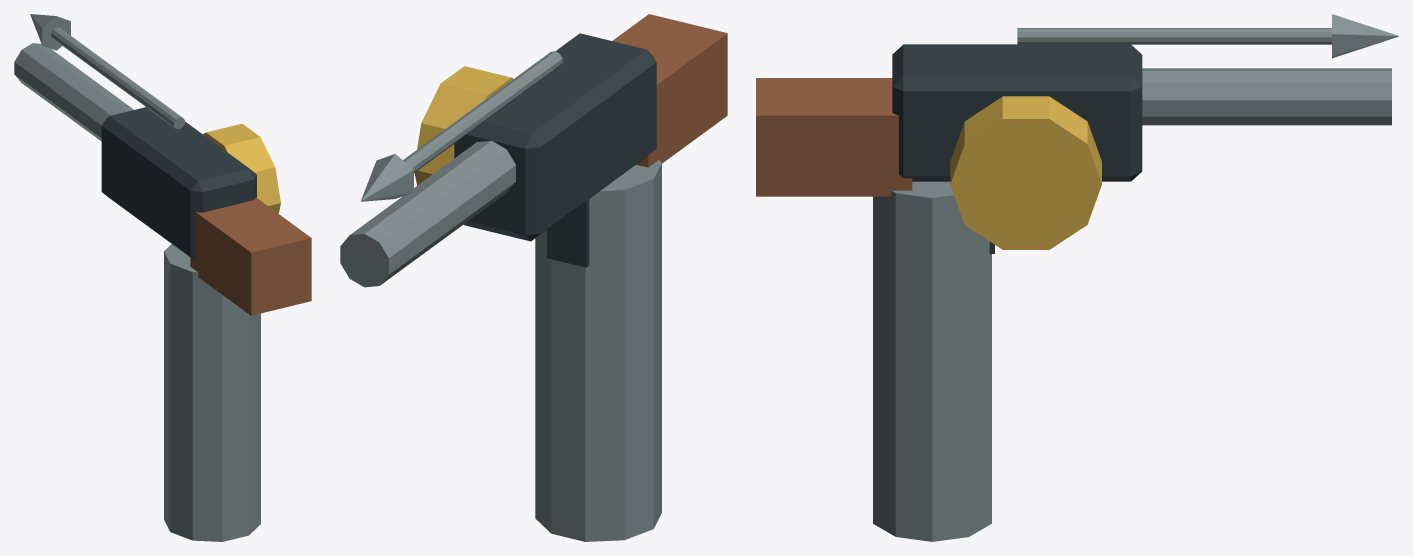
The model's file is DeadRail_Weapon_Mount.fbx.
The picture shows the model from 3 angles, left to right: view 1: azimuth 30°, elevation 25°; view 2: azimuth 150°, elevation 25°; view 3: azimuth 270°, elevation 25°; orthographic projection. The views are drawn at different scales.
Visible parts, largest first — view 1: Weapon_Pedestal, Weapon_Receiver, Weapon_Stock, Weapon_Barrel, Harpoon_Spool, Harpoon_Bolt, Harpoon_Tip; view 2: Weapon_Pedestal, Weapon_Receiver, Weapon_Barrel, Weapon_Stock, Harpoon_Spool, Harpoon_Bolt, Weapon_Grip, Harpoon_Tip; view 3: Weapon_Pedestal, Weapon_Receiver, Harpoon_Spool, Weapon_Stock, Weapon_Barrel, Harpoon_Bolt, Harpoon_Tip.
Part boxes in pixels (x1,y1,x2,y2): Weapon_Pedestal: (164,244,260,541); Weapon_Receiver: (101,107,256,259); Weapon_Stock: (190,197,311,315); Weapon_Barrel: (14,43,133,141); Harpoon_Spool: (203,123,280,213); Harpoon_Bolt: (51,27,184,129); Harpoon_Tip: (30,14,70,50); Weapon_Pedestal: (535,160,661,541); Weapon_Receiver: (454,33,656,241); Weapon_Barrel: (340,140,515,287); Weapon_Stock: (612,14,727,167); Harpoon_Spool: (414,66,513,185); Harpoon_Bolt: (403,51,562,172); Weapon_Grip: (547,199,589,267); Harpoon_Tip: (360,154,413,201); Weapon_Pedestal: (873,181,991,541); Weapon_Receiver: (892,44,1142,181); Harpoon_Spool: (950,96,1101,249); Weapon_Stock: (756,78,912,196); Weapon_Barrel: (1142,68,1391,125); Harpoon_Bolt: (1017,28,1331,44); Harpoon_Tip: (1332,14,1398,58).
Size of the model in its own units: 0.39 by 1.24 by 1.44.
